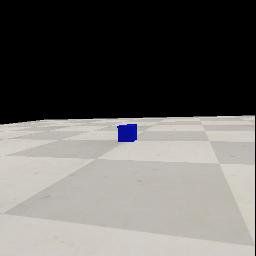box: (117, 124, 137, 142)
